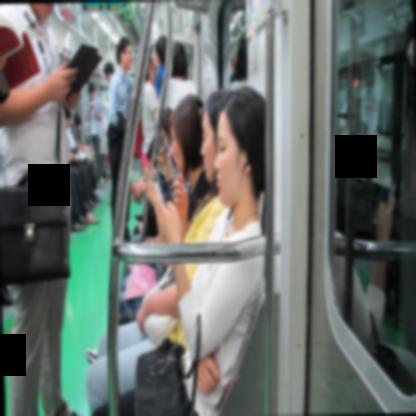handbag: (0, 101, 71, 286), (132, 315, 202, 416), (141, 264, 179, 348), (125, 264, 156, 298)
